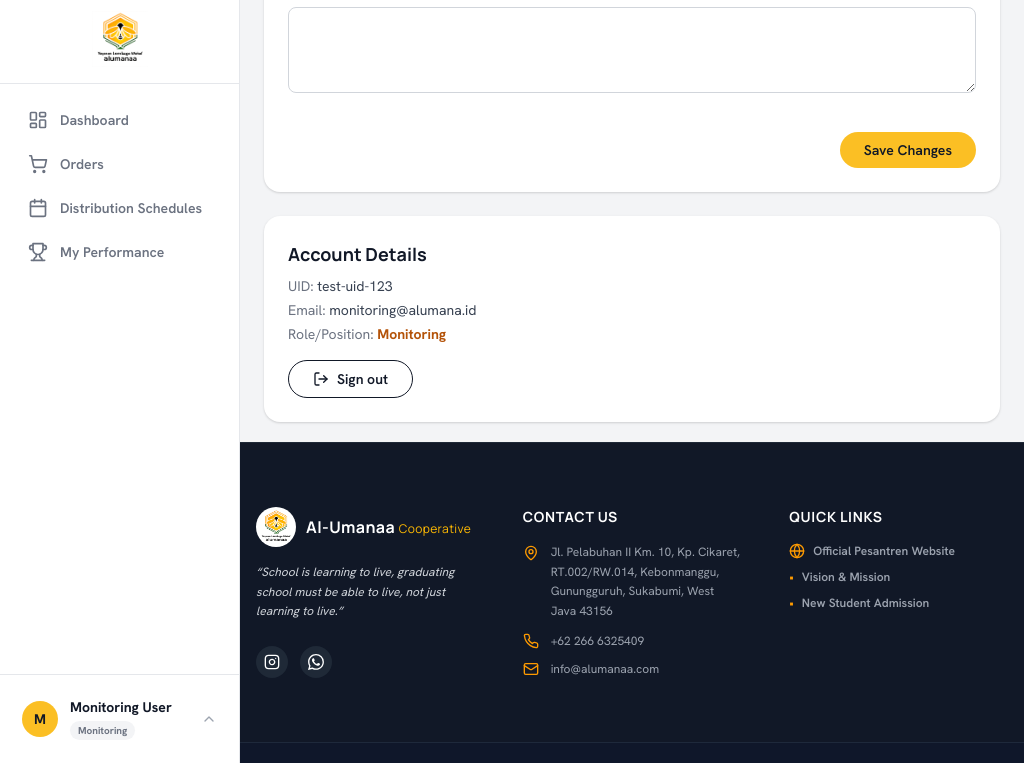
Test case: Authentication UI Features › Logout Confirmation Modal Flow › should display confirmation modal when sign out is clicked in SettingsPage
(page scrolled)
Click sign out in settings page
What coordinates should you click on to do the following:
click the button "Sign out"
I would click on:
 (350, 379)
Its box is [288,360,413,398].
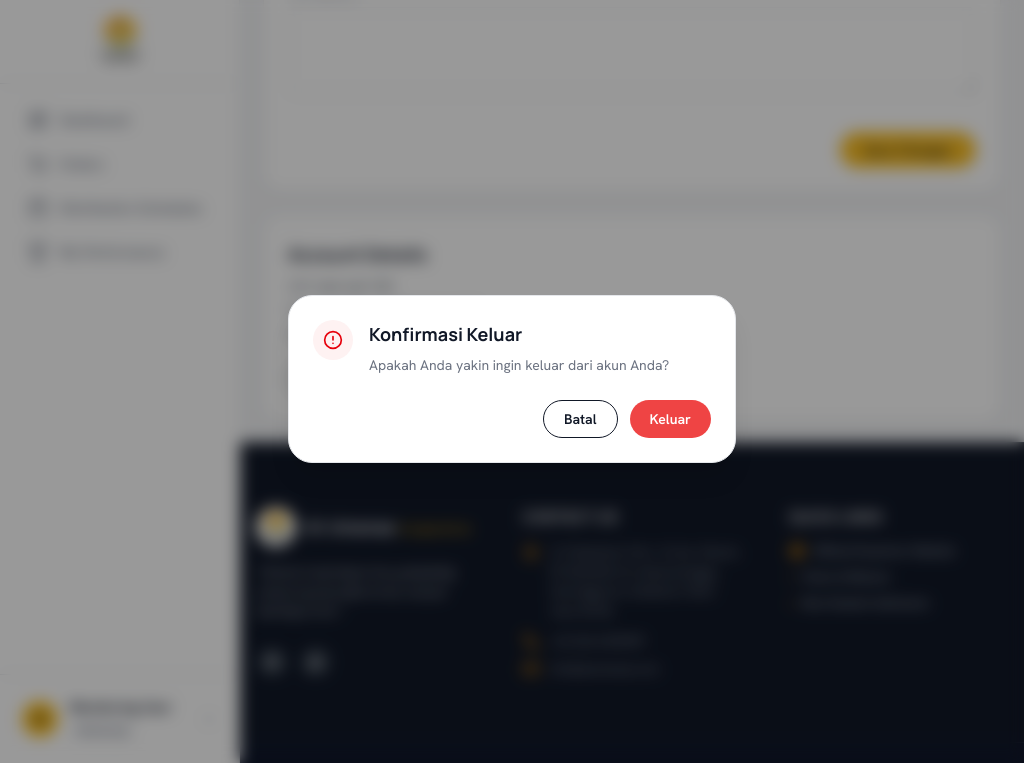
Result: the heading "Konfirmasi Keluar" is shown at [369,322,522,346]
Click "Batal"
What coordinates should you click on to do the following:
click the button "Batal"
I would click on:
 (580, 419)
Its box is [543,400,618,438].
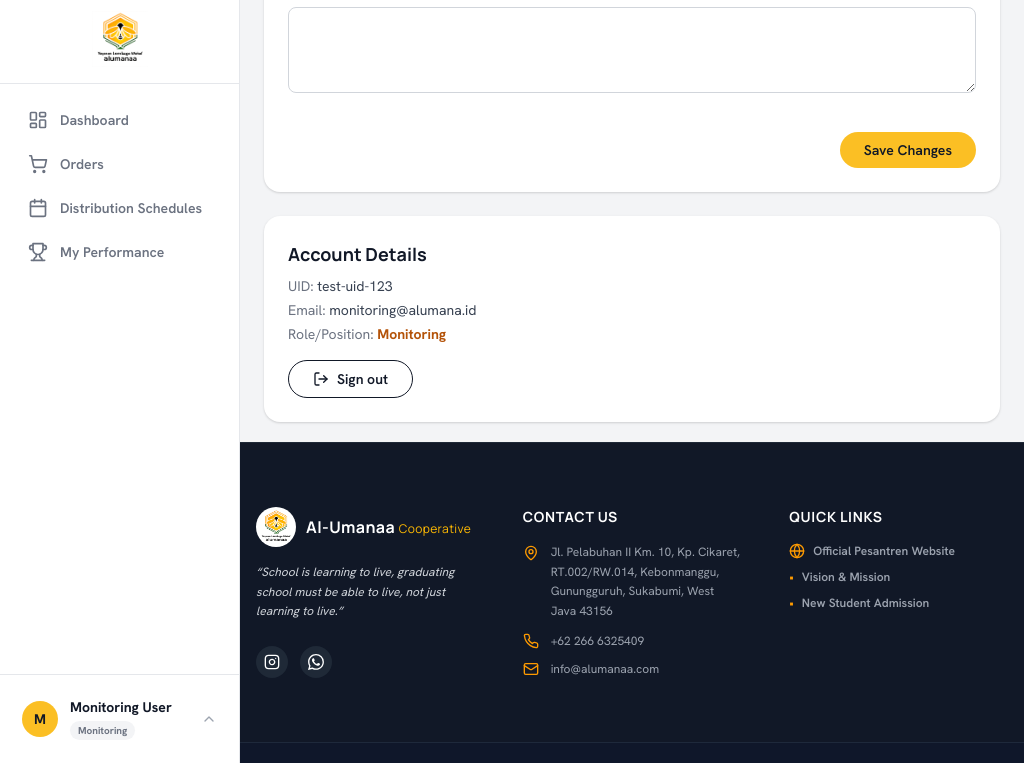
Result: the heading "Konfirmasi Keluar" is gone
